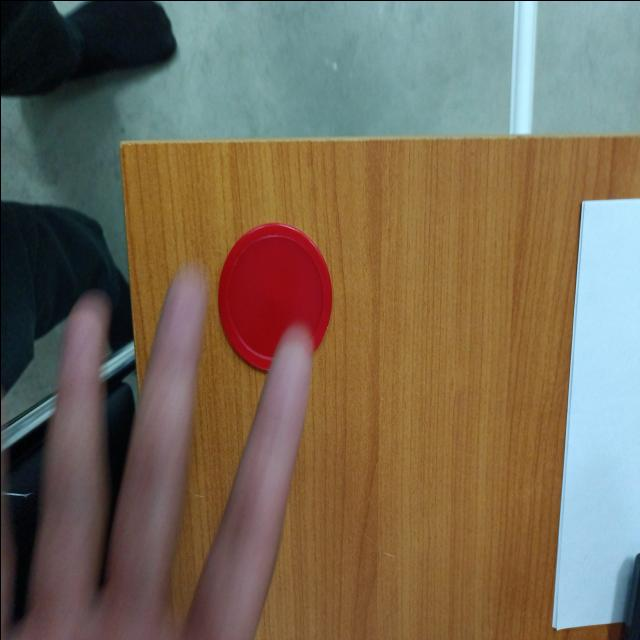chip: (216, 223, 330, 373)
